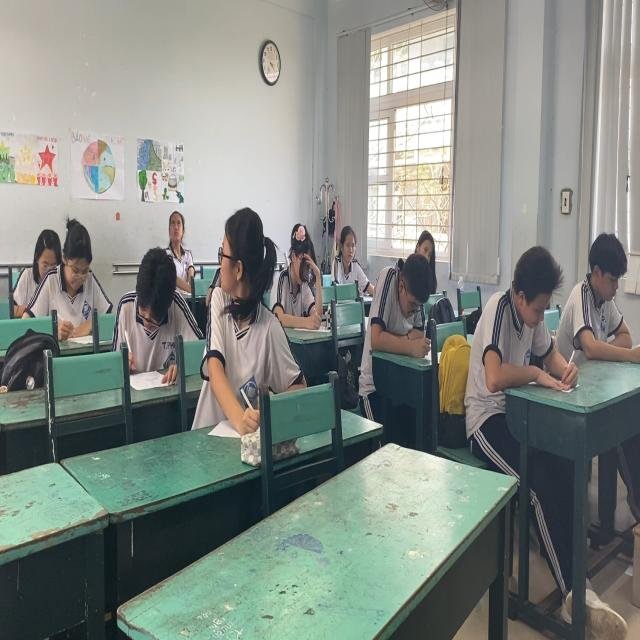cheating: (208, 208, 284, 398)
not_cheating: (462, 236, 554, 377), (15, 211, 97, 329), (112, 246, 188, 356), (569, 228, 638, 339), (371, 250, 431, 367), (277, 222, 334, 322), (163, 198, 207, 312), (324, 216, 367, 294)
